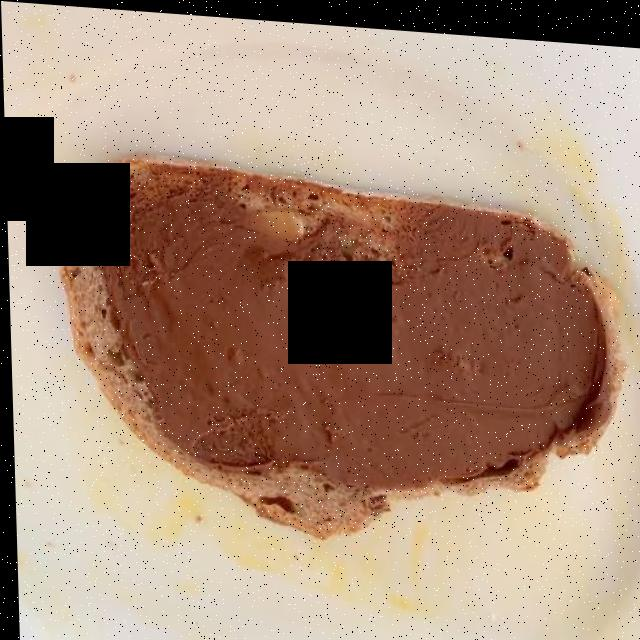bread-nut: (63, 166, 616, 527)
hazelnut-chocolate-spread-nutella-ovomaltine-caotina: (84, 161, 610, 486)
